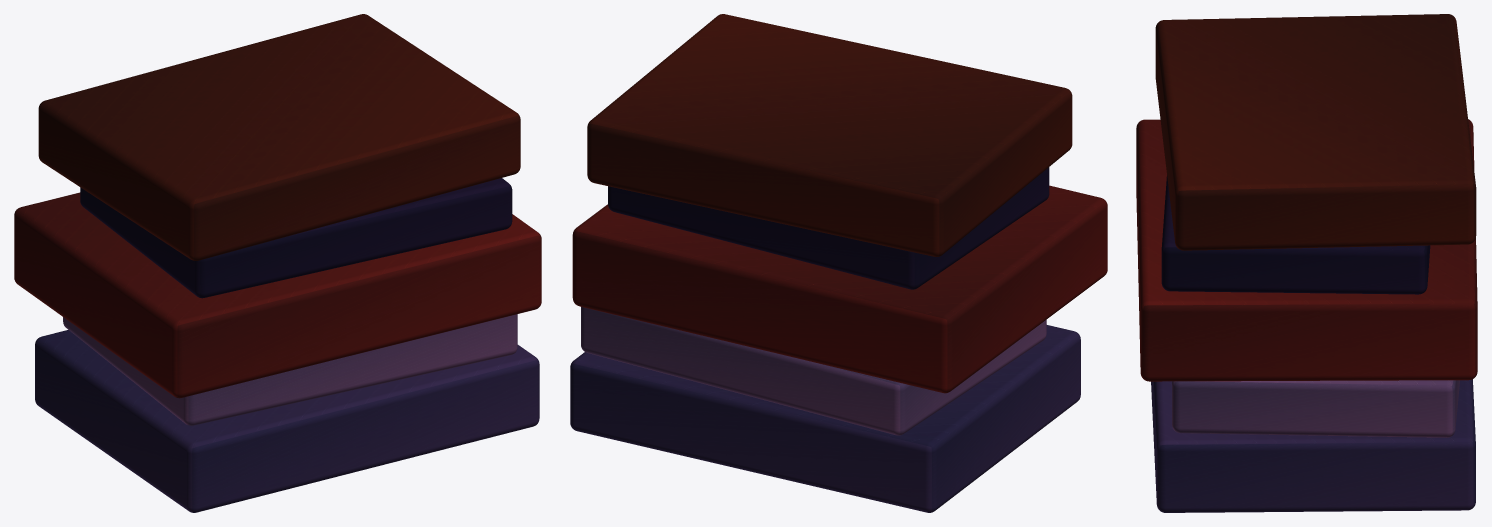
Rendered from state-default.glb.
3 views of the same model, side by side, from view 1: azimuth 30°, elevation 25°; view 2: azimuth 150°, elevation 25°; view 3: azimuth 270°, elevation 25° (orthographic). The views are drawn at different scales.
Visible parts, largest first — view 1: assetPrim:578967ee4707-19c73238f45:book-5, assetPrim:578967ee4707-19c73238f45:book-3, assetPrim:578967ee4707-19c73238f45:book-1, assetPrim:578967ee4707-19c73238f45:book-4, assetPrim:578967ee4707-19c73238f45:book-2; view 2: assetPrim:578967ee4707-19c73238f45:book-5, assetPrim:578967ee4707-19c73238f45:book-3, assetPrim:578967ee4707-19c73238f45:book-1, assetPrim:578967ee4707-19c73238f45:book-2, assetPrim:578967ee4707-19c73238f45:book-4; view 3: assetPrim:578967ee4707-19c73238f45:book-5, assetPrim:578967ee4707-19c73238f45:book-3, assetPrim:578967ee4707-19c73238f45:book-1, assetPrim:578967ee4707-19c73238f45:book-2, assetPrim:578967ee4707-19c73238f45:book-4.
Boxes of the visible parts, left/top/right/bottom form: assetPrim:578967ee4707-19c73238f45:book-5: left=38, top=14, right=520, bottom=260; assetPrim:578967ee4707-19c73238f45:book-3: left=14, top=192, right=541, bottom=398; assetPrim:578967ee4707-19c73238f45:book-1: left=35, top=330, right=539, bottom=512; assetPrim:578967ee4707-19c73238f45:book-4: left=80, top=178, right=512, bottom=298; assetPrim:578967ee4707-19c73238f45:book-2: left=63, top=314, right=517, bottom=425; assetPrim:578967ee4707-19c73238f45:book-5: left=587, top=14, right=1072, bottom=256; assetPrim:578967ee4707-19c73238f45:book-3: left=572, top=185, right=1107, bottom=393; assetPrim:578967ee4707-19c73238f45:book-1: left=570, top=325, right=1080, bottom=512; assetPrim:578967ee4707-19c73238f45:book-2: left=581, top=307, right=1046, bottom=435; assetPrim:578967ee4707-19c73238f45:book-4: left=608, top=167, right=1049, bottom=289; assetPrim:578967ee4707-19c73238f45:book-5: left=1155, top=14, right=1476, bottom=250; assetPrim:578967ee4707-19c73238f45:book-3: left=1136, top=119, right=1477, bottom=381; assetPrim:578967ee4707-19c73238f45:book-1: left=1151, top=379, right=1475, bottom=512; assetPrim:578967ee4707-19c73238f45:book-2: left=1172, top=380, right=1459, bottom=437; assetPrim:578967ee4707-19c73238f45:book-4: left=1161, top=176, right=1430, bottom=294.
Bounding box in the file's own units: 0.2556 × 0.2 × 0.1924.
Materials: 5 (5 with a texture image).
